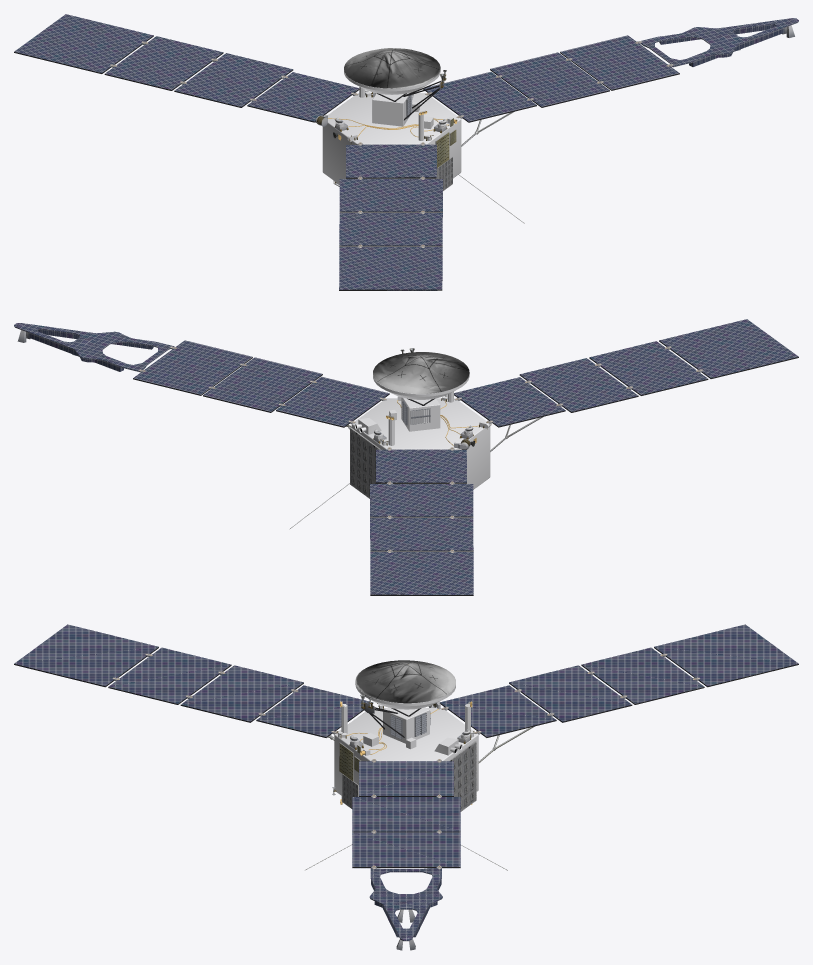
Rendered from juno.glb.
3 renders of one model, top to bottom at view 1: azimuth 30°, elevation 25°; view 2: azimuth 150°, elevation 25°; view 3: azimuth 270°, elevation 25°, orthographic. The views are drawn at different scales.
Parts seen in each view (by area): view 1: shiny_panels_Geometry-Body.021, dish_bottom_Geometry-Mesh, dish_top_2_Geometry-Mesh.003, black_krinkle_Geometry-Body.007, tex_01_A_Geometry-Body.009; view 2: shiny_panels_Geometry-Body.021, dish_bottom_Geometry-Mesh, dish_top_2_Geometry-Mesh.003, tex_01_A_Geometry-Body.009, black_krinkle_Geometry-Body.007; view 3: shiny_panels_Geometry-Body.021, dish_bottom_Geometry-Mesh, tex_01_A_Geometry-Body.009, dish_top_2_Geometry-Mesh.003, black_krinkle_Geometry-Body.007.
Boxes of the visible parts, box(x1,y1,x2,y2) form: shiny_panels_Geometry-Body.021: box(14, 14, 798, 290); dish_bottom_Geometry-Mesh: box(322, 69, 461, 186); dish_top_2_Geometry-Mesh.003: box(344, 48, 440, 88); black_krinkle_Geometry-Body.007: box(14, 35, 679, 290); tex_01_A_Geometry-Body.009: box(110, 25, 794, 247); shiny_panels_Geometry-Body.021: box(14, 319, 798, 594); dish_bottom_Geometry-Mesh: box(351, 374, 490, 489); dish_top_2_Geometry-Mesh.003: box(373, 352, 469, 393); tex_01_A_Geometry-Body.009: box(17, 330, 702, 552); black_krinkle_Geometry-Body.007: box(133, 340, 798, 595); shiny_panels_Geometry-Body.021: box(14, 624, 798, 941); dish_bottom_Geometry-Mesh: box(334, 682, 478, 800); tex_01_A_Geometry-Body.009: box(112, 653, 699, 950); dish_top_2_Geometry-Mesh.003: box(355, 660, 455, 703); black_krinkle_Geometry-Body.007: box(14, 647, 798, 867).
Bounding box in the file's own units: 17.66 × 4.26 × 18.54.
Materials: 6 (3 with a texture image).
